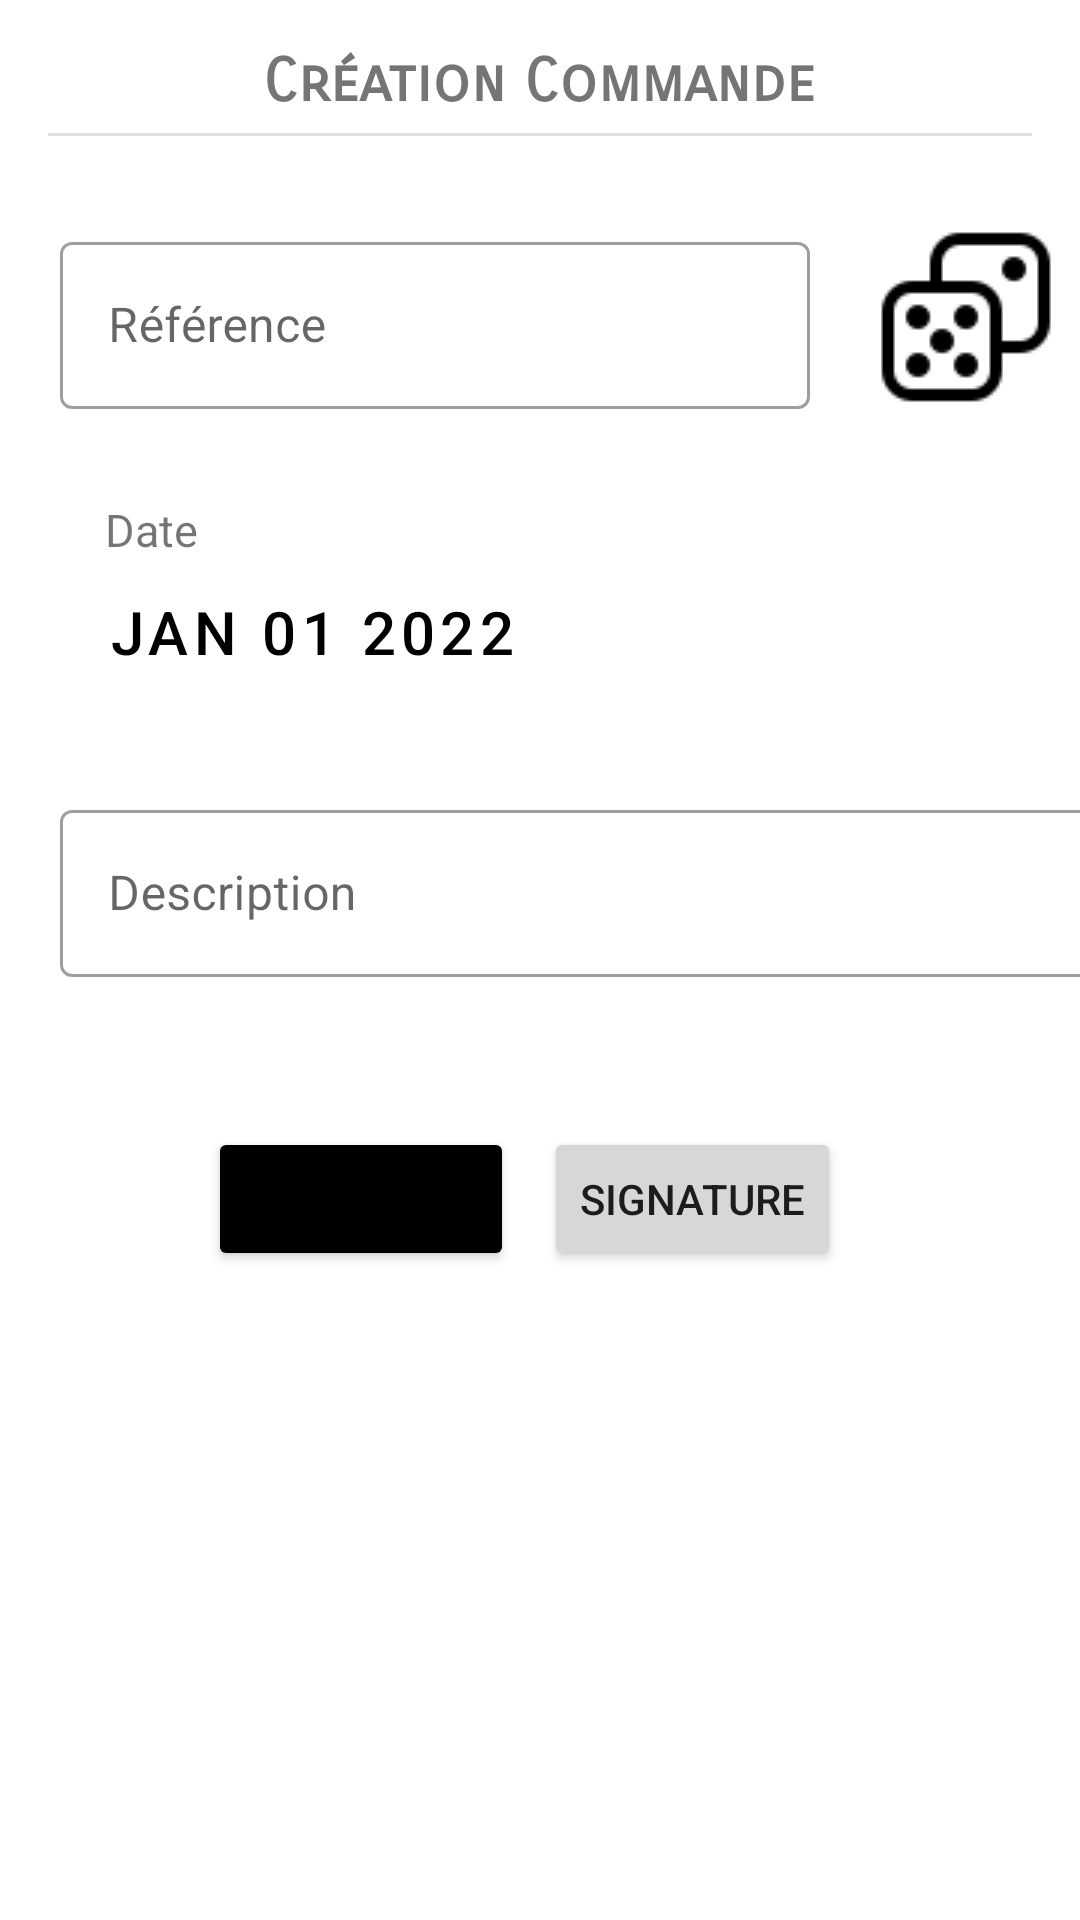

Where to tap for icons on this 1080 × 1920 app screen, as point (x, y):
rolldice: point (966, 317)
